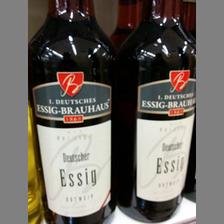vinegar: (28, 1, 119, 224), (122, 1, 196, 224)
